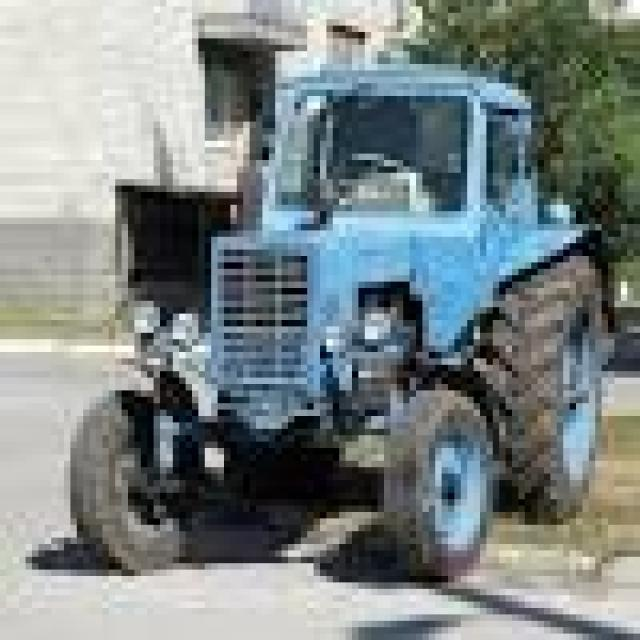Tratores - v5 YOLO V8L 2024-11-13: (70, 66, 604, 578)
